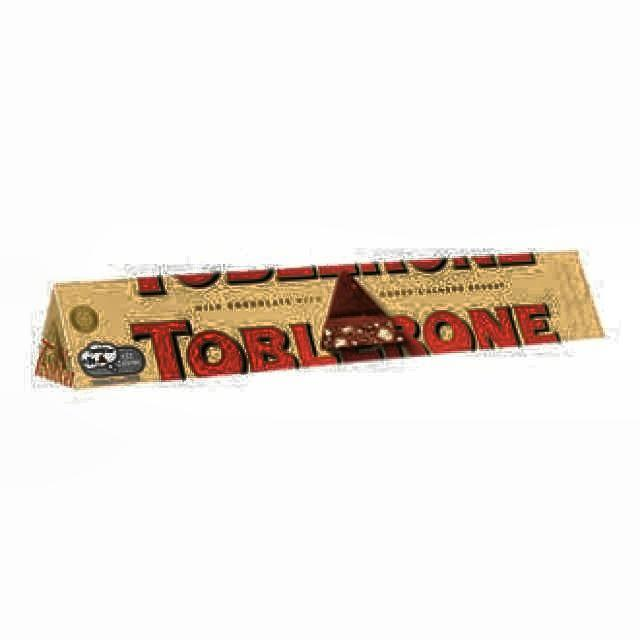cardboard: (34, 250, 606, 391)
